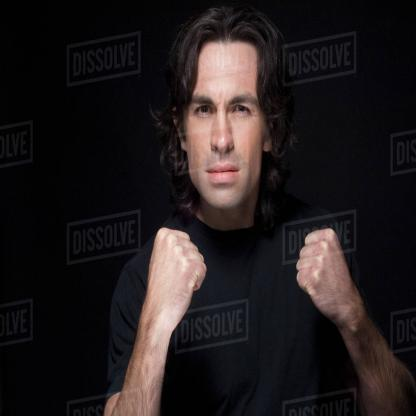fist: (145, 222, 211, 317), (294, 224, 350, 310)
